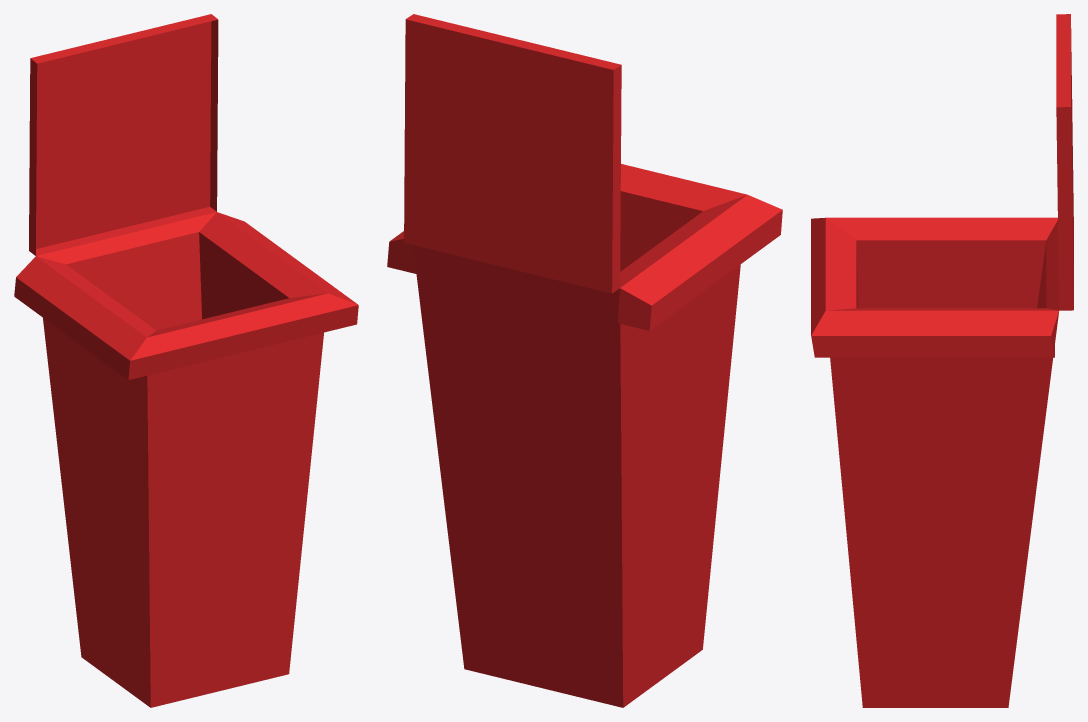
File: Merah.fbx
3 views of the same model, side by side, from view 1: azimuth 30°, elevation 25°; view 2: azimuth 150°, elevation 25°; view 3: azimuth 270°, elevation 25° (orthographic). The views are drawn at different scales.
Visible parts, largest first — view 1: Cube.002; view 2: Cube.002; view 3: Cube.002.
Part boxes in pixels (bbox=[...]): Cube.002: bbox=[14, 14, 358, 707]; Cube.002: bbox=[387, 14, 782, 707]; Cube.002: bbox=[811, 14, 1073, 707].
Bounding box in the file's own units: 323 × 787 × 306.
